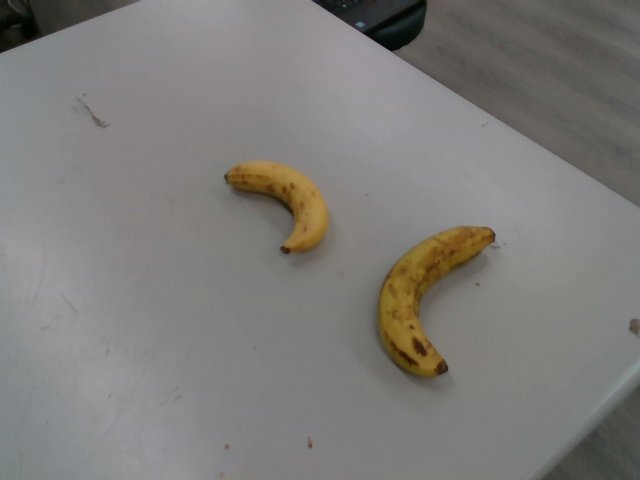banana: (371, 222, 497, 381), (225, 158, 330, 258)
